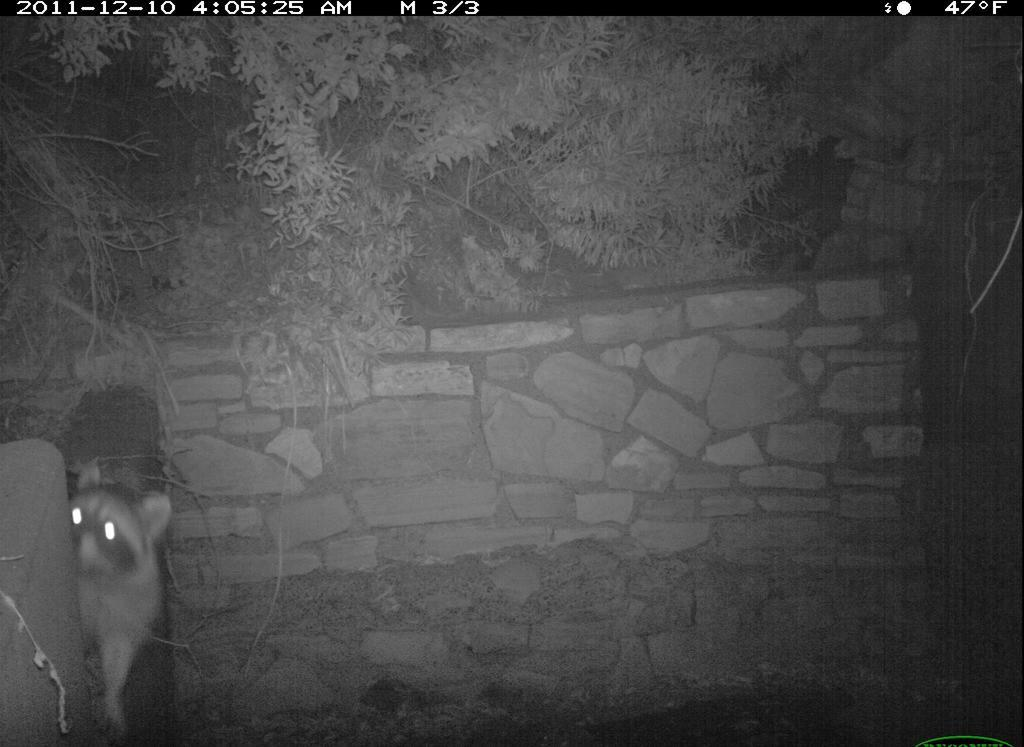raccoon: (57, 454, 189, 733)
